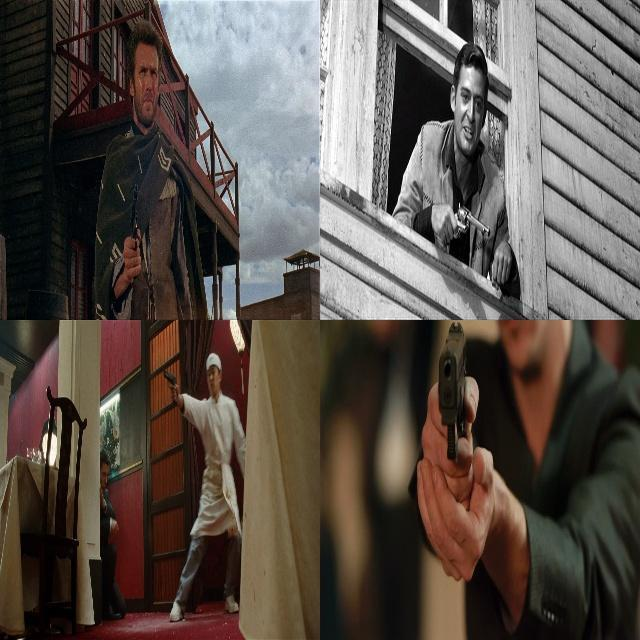gun-knife-thesis - v11 Yolov5 augmented: (419, 319, 490, 564), (437, 188, 490, 258), (121, 175, 141, 279), (161, 364, 178, 404)
